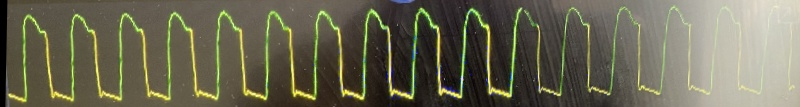normal_pressure: (0, 0, 777, 107)
